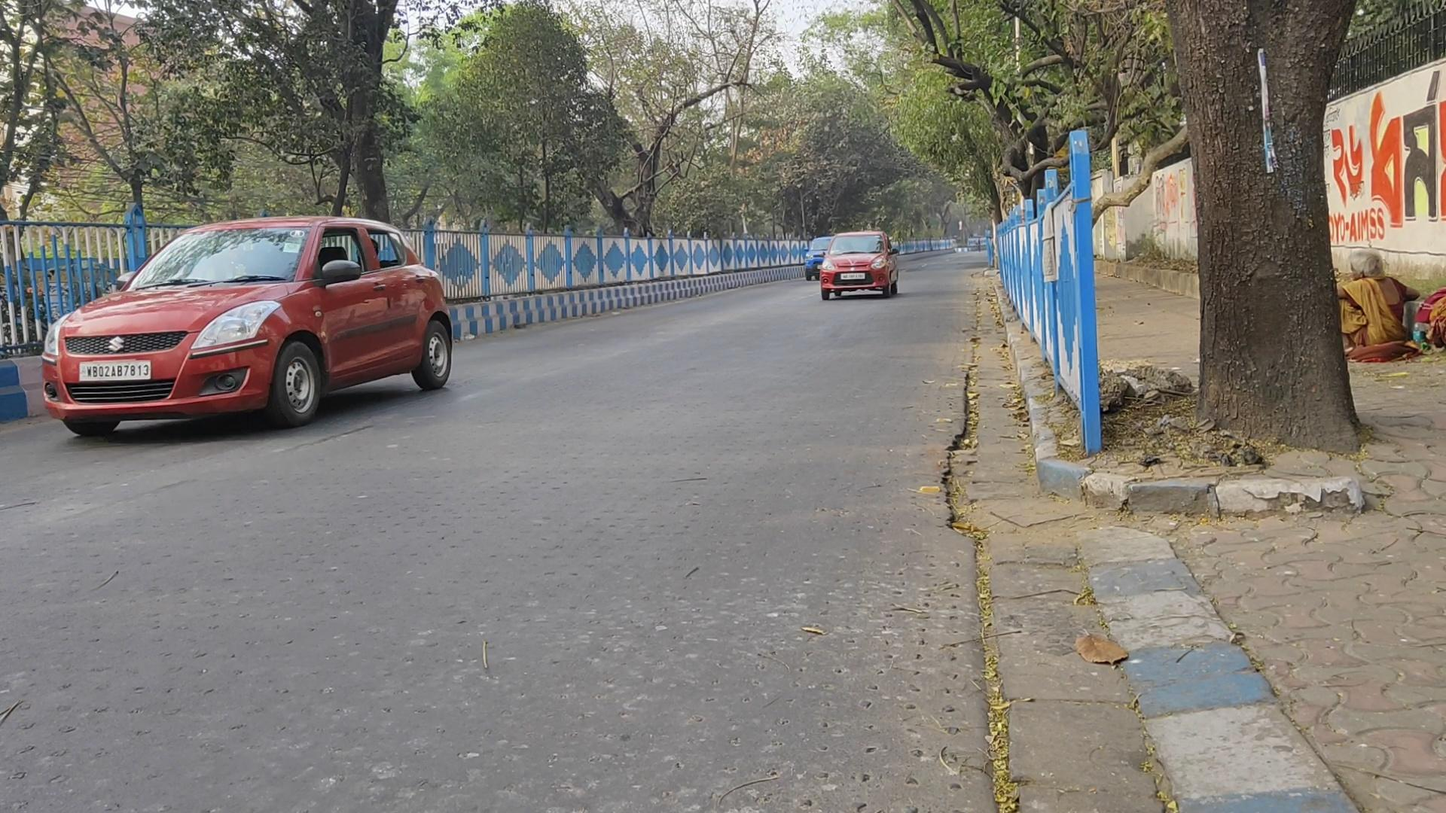car: (41, 213, 454, 438), (819, 229, 898, 304), (804, 236, 840, 282)
